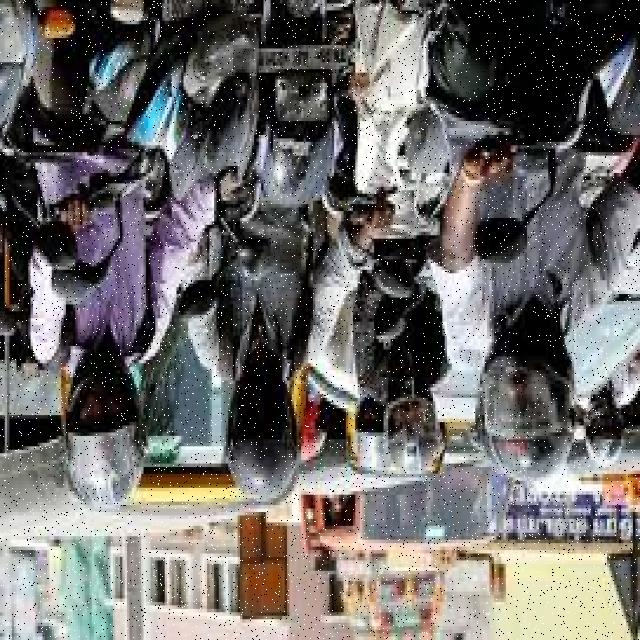Helmet: (50, 338, 144, 516), (482, 312, 576, 484), (220, 352, 310, 514), (379, 363, 442, 479), (586, 391, 626, 467), (300, 394, 336, 459)
